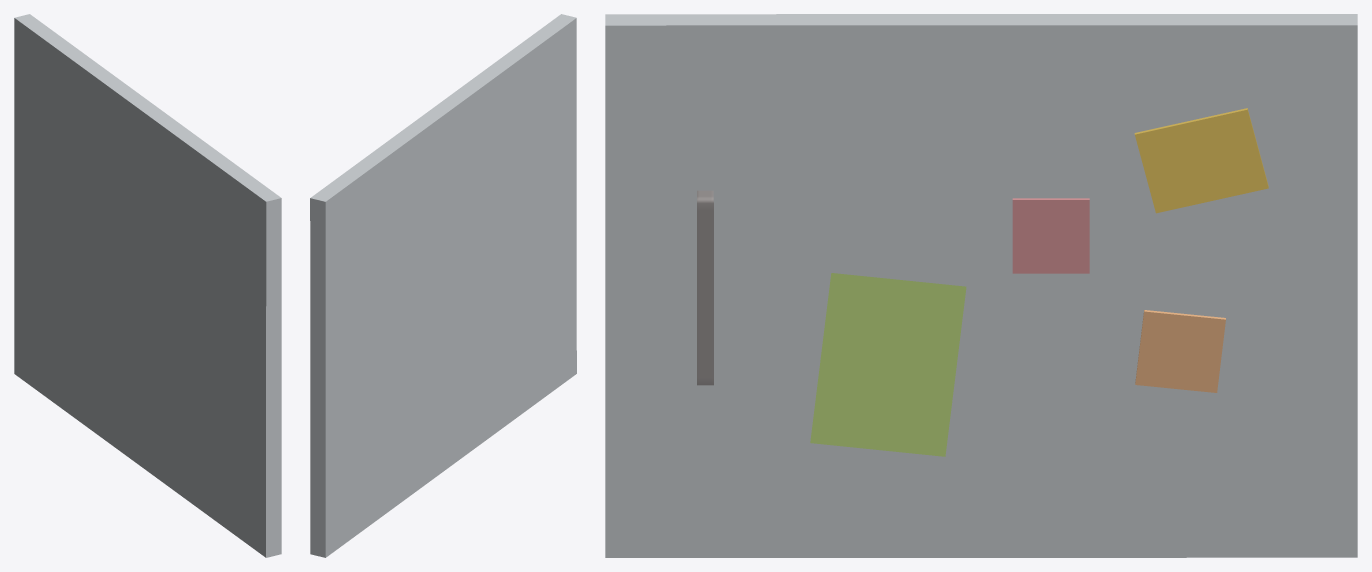
File: Puerta_nevera1.fbx
The picture shows the model from 3 angles, left to right: view 1: azimuth 30°, elevation 25°; view 2: azimuth 150°, elevation 25°; view 3: azimuth 270°, elevation 25°; orthographic projection. The views are drawn at different scales.
Visible parts, largest first — view 1: Puerta.002; view 2: Puerta.002; view 3: Puerta.002, Poster 3.003, Poster 3.002, Poster 3.005, Poster 3.001.
Part boxes in pixels (x1,y1,x2,y2): Puerta.002: (14, 14, 281, 557); Puerta.002: (310, 14, 576, 557); Puerta.002: (605, 14, 1357, 557); Poster 3.003: (810, 273, 966, 456); Poster 3.002: (1134, 108, 1268, 213); Poster 3.005: (1135, 310, 1225, 392); Poster 3.001: (1012, 198, 1089, 273).
Size of the model in its own units: 0.842 by 8.63 by 11.04.
